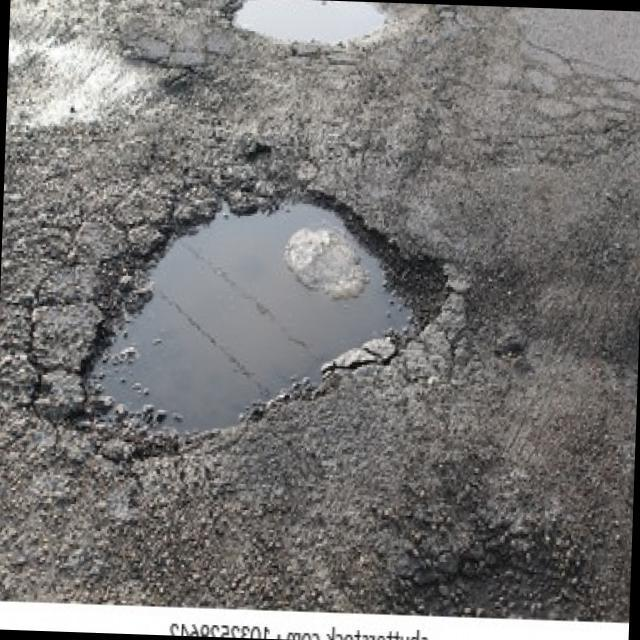pothole: (77, 172, 457, 460), (221, 0, 428, 55)
